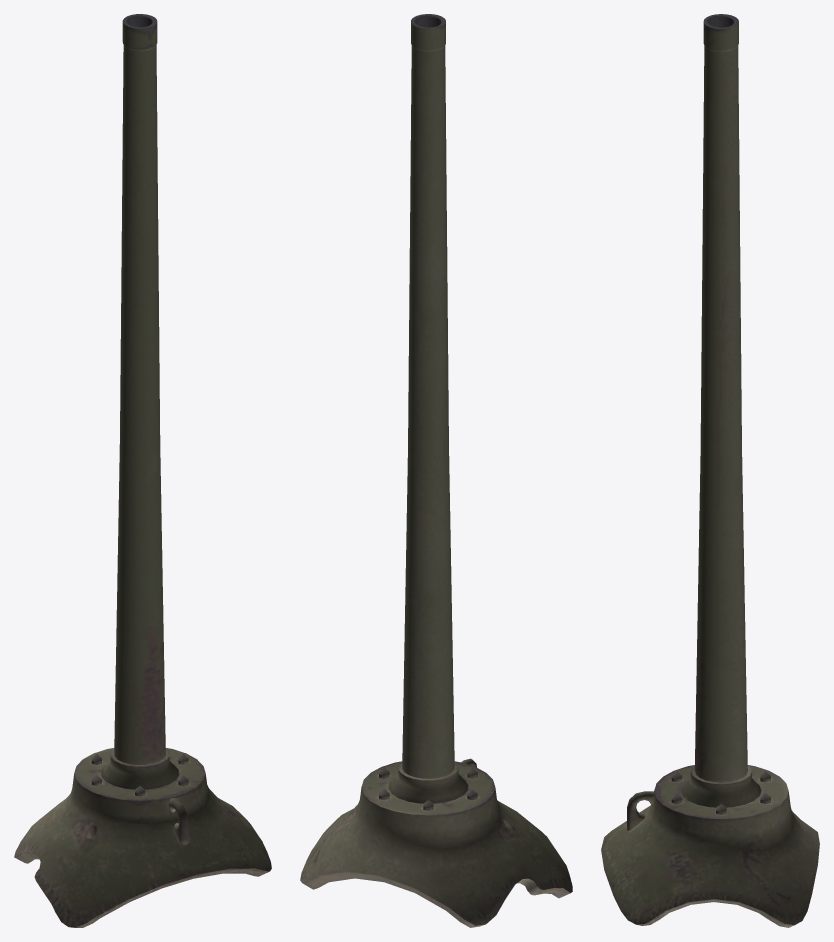
The model's file is Gun_03.glb.
3 views of the same model, side by side, from view 1: azimuth 30°, elevation 25°; view 2: azimuth 150°, elevation 25°; view 3: azimuth 270°, elevation 25° (orthographic). The views are drawn at different scales.
Visible parts, largest first — view 1: set_0_group_0; view 2: set_0_group_0; view 3: set_0_group_0.
Part boxes in pixels (bbox=[...]): set_0_group_0: bbox=[14, 14, 271, 927]; set_0_group_0: bbox=[300, 14, 572, 927]; set_0_group_0: bbox=[601, 14, 819, 927].
Bounding box in the file's own units: 0.7906 × 3.17 × 0.7143.
Materials: 1 (1 with a texture image).
